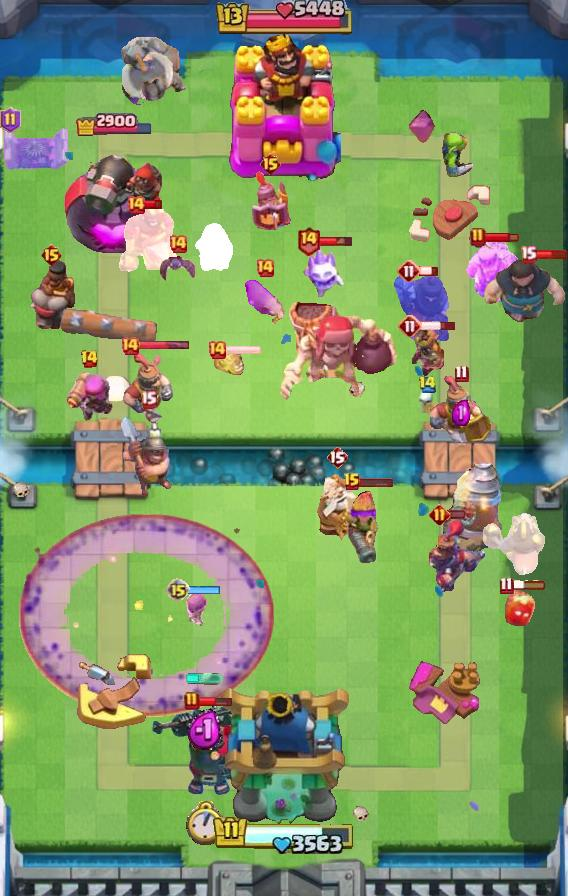axe: (120, 35, 174, 99)
bar: (138, 340, 190, 351), (225, 344, 262, 356), (420, 320, 457, 332), (511, 579, 547, 591), (358, 476, 394, 488), (319, 235, 354, 247), (484, 231, 519, 243), (197, 696, 233, 707), (188, 585, 222, 596), (534, 249, 568, 260), (419, 265, 439, 277), (447, 509, 466, 520), (144, 199, 163, 210)
bar-level: (296, 225, 321, 256), (166, 578, 190, 602), (398, 314, 422, 338), (397, 259, 421, 283), (40, 243, 63, 267), (259, 152, 282, 176), (0, 107, 21, 133), (326, 445, 348, 469), (429, 504, 450, 525), (207, 340, 227, 360), (120, 336, 140, 356), (255, 258, 275, 278), (168, 234, 188, 254), (126, 195, 146, 215), (80, 349, 99, 369), (418, 375, 437, 394), (343, 472, 361, 492), (140, 390, 157, 409), (520, 245, 537, 264), (184, 691, 200, 711), (470, 227, 486, 247), (499, 576, 514, 595), (454, 364, 469, 383)
barbarian-evolution: (465, 239, 519, 305)
bat: (158, 253, 198, 283)
cannoneer-tower: (64, 138, 164, 256)
clock: (186, 801, 225, 846)
elixir: (187, 710, 224, 751), (452, 400, 470, 426)
evolution-symbol: (408, 109, 436, 145)
fire-spirit: (505, 590, 535, 628)
firecracker: (65, 370, 114, 422)
goblin: (436, 123, 478, 181)
golemite: (118, 37, 188, 105)
guard: (249, 170, 291, 232)
hog: (239, 278, 291, 328)
ice-spirit: (192, 223, 234, 271), (94, 376, 140, 406)
ice-spirit-evolution: (301, 245, 345, 299)
king-tower: (216, 684, 352, 826), (227, 29, 341, 181)
king-tower-bar: (212, 815, 356, 857), (213, 0, 355, 38)
lava-pup: (211, 347, 247, 379)
little-prince: (412, 328, 444, 378)
miner: (118, 414, 178, 502)
musketeer: (342, 487, 384, 567)
ram-rider: (25, 257, 77, 331)
royal-recruit: (118, 344, 176, 426), (430, 376, 492, 452)
skeleton: (414, 387, 440, 417)
skeleton-evolution: (183, 589, 210, 627)
tesla: (0, 124, 70, 174)
the-log: (57, 307, 159, 355)
tower-bar: (75, 111, 154, 136)
